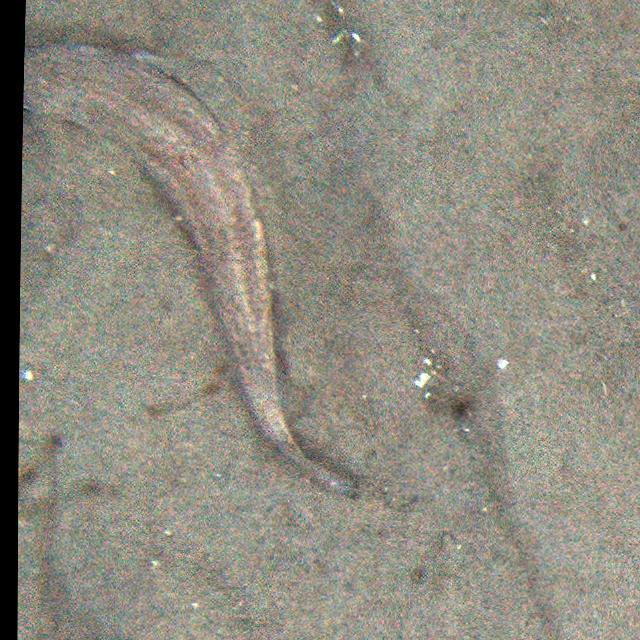roundfish: (25, 42, 362, 502)
